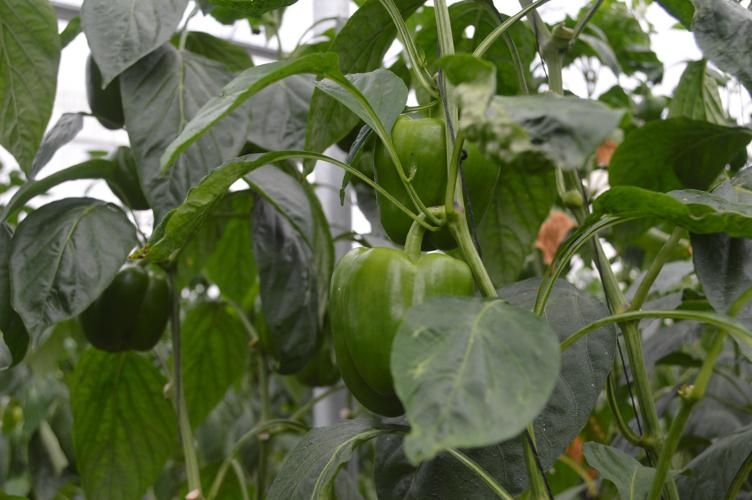BellPepper: (299, 245, 487, 430), (365, 111, 505, 248), (73, 262, 182, 358)
